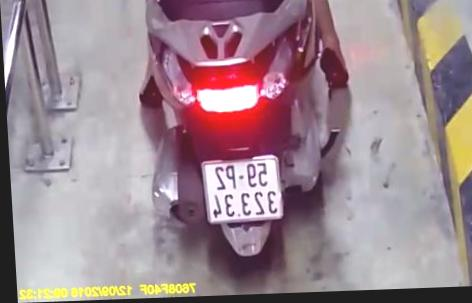License_Plate: (195, 148, 291, 229)
